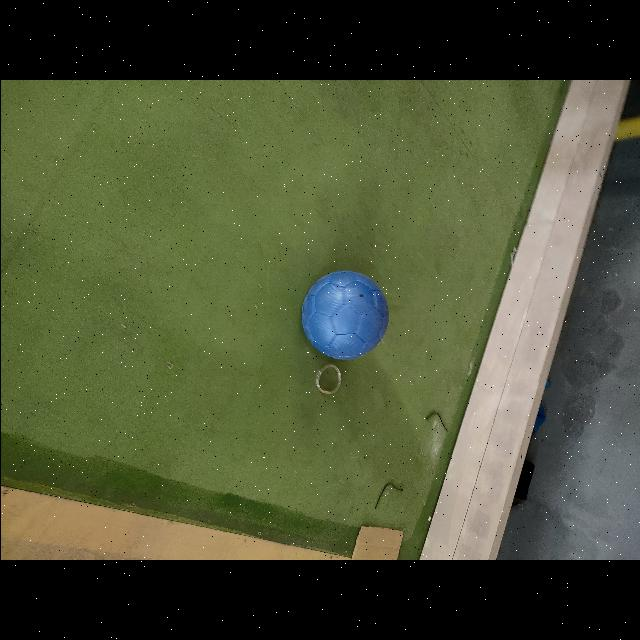B: (301, 271, 387, 359)
